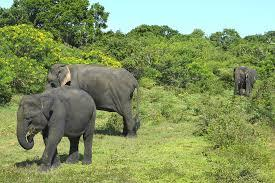elephant: (17, 64, 139, 169), (233, 66, 255, 94)
